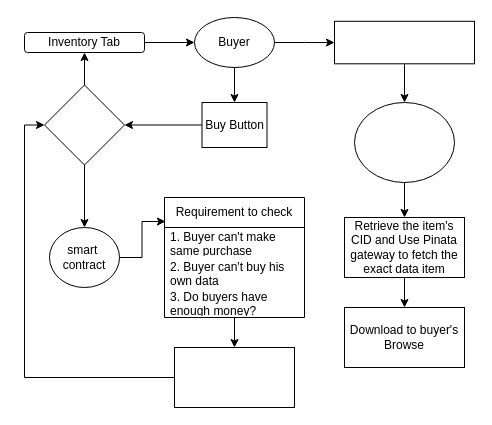
The diagram is 492 pixels wide and 425 high, and some of its shapes have lost their labels. Each missing label, with the centre of its shape:
"Backend route.ts" belongs at point 84,124.
"Download button (In the inventory, after purchase)" belongs at point 404,42.
"If Yes, fetch the data's meta info (like descriptions, prices)" belongs at point 234,377.
"Smart contract GetCID( )" belongs at point 404,142.
